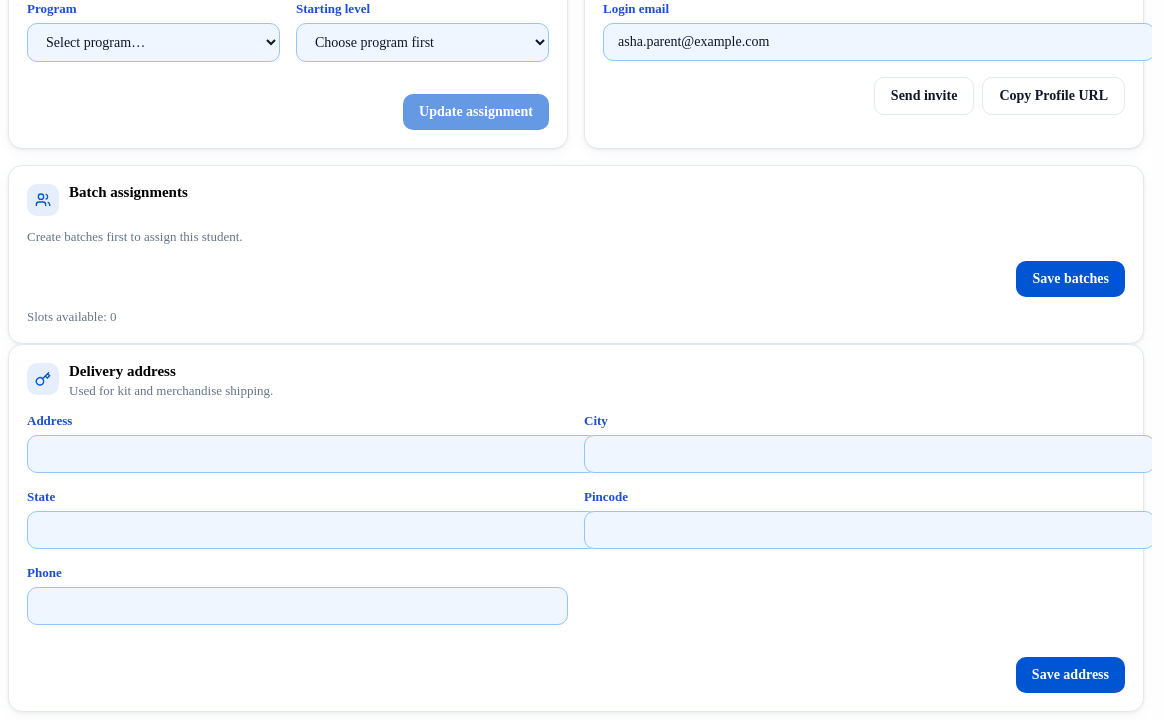
Test: CenterStudentDetailPanel › regression_save_address_shows_saved_status
(page scrolled)
Click the button "Save address" at (1070, 675), box 1016,657 -> 1125,693
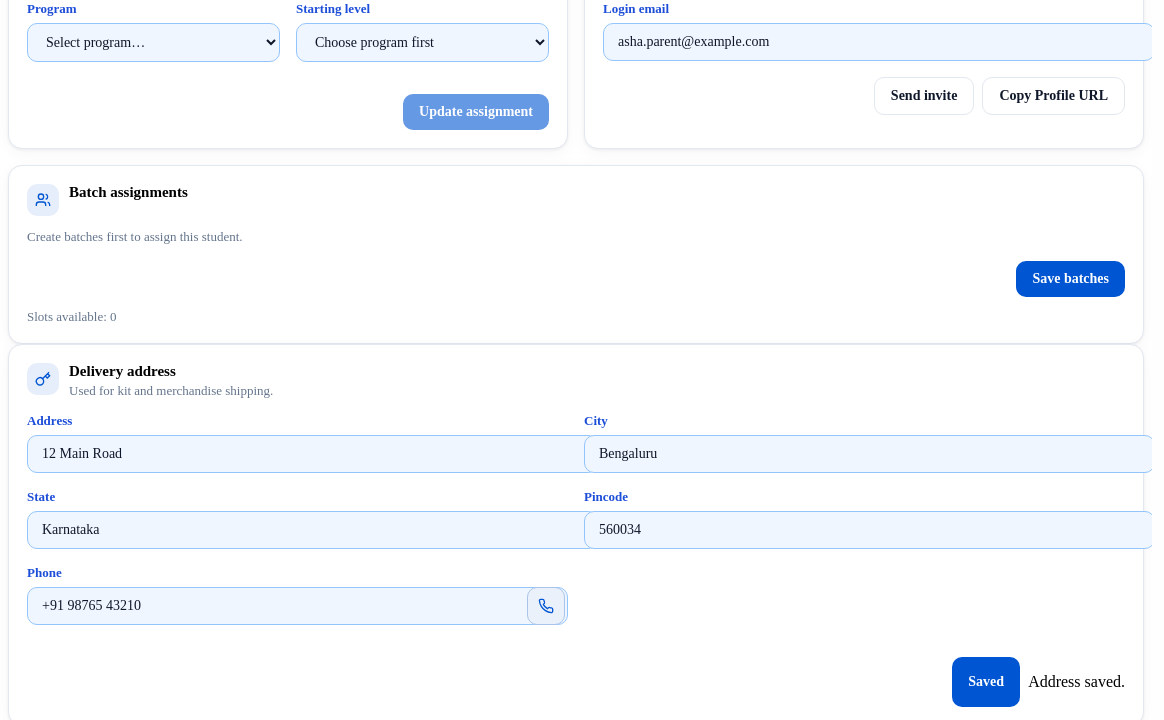
expect the button "Saved" is shown: met, box 952,657 -> 1020,707
expect the text "Address saved." is shown: met, box 1028,673 -> 1125,691
